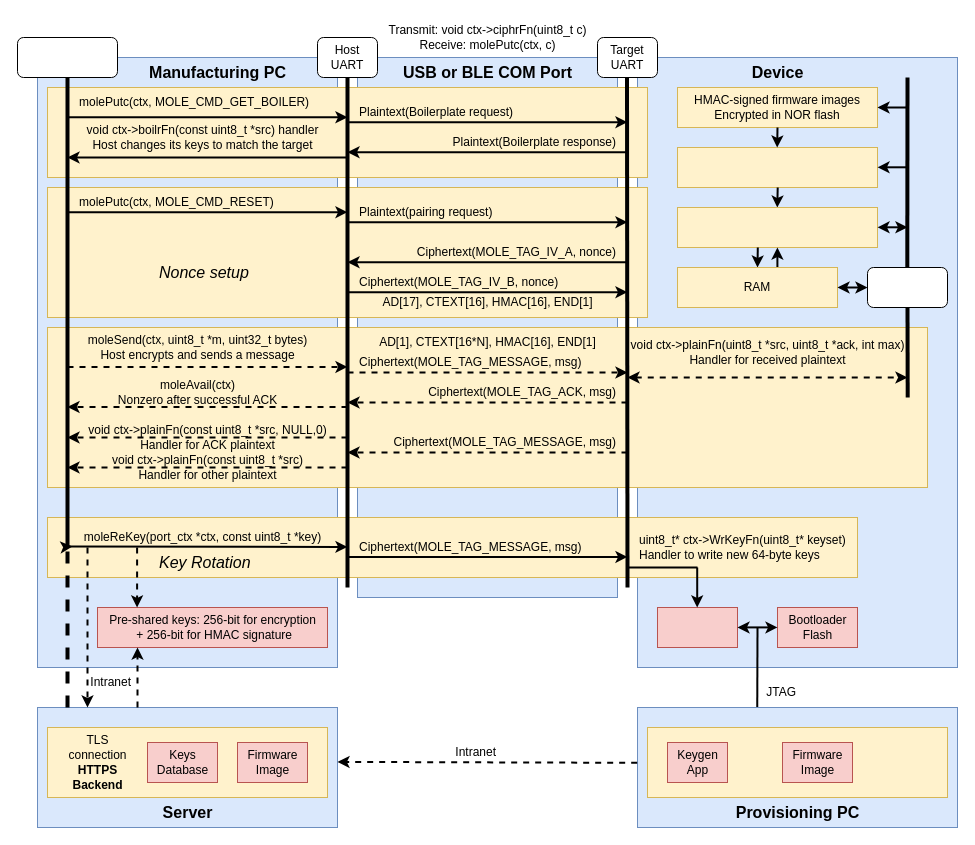
Some shapes in this 975 by 845 pixel diagram are drawn without their labels. Each missing label, with the box of its shape:
Code and const data Internal MCU flash: (676, 146, 878, 188)
Command Line Interface: (16, 36, 118, 78)
Pre-shared Keys: (656, 606, 738, 648)
Thin-Client Debugger: (866, 266, 948, 308)
Virtual Machine: (676, 206, 878, 248)
